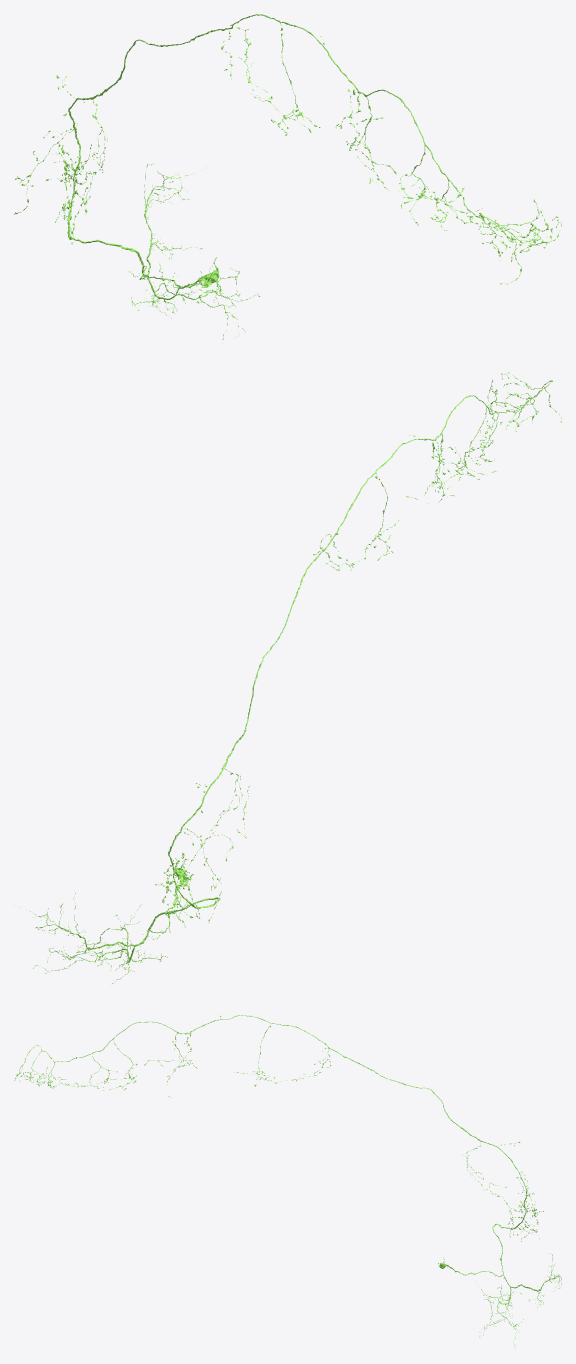
The model's file is VFB_jrmc3kjh.glb.
The picture shows the model from 3 angles, top to bottom: view 1: azimuth 30°, elevation 25°; view 2: azimuth 150°, elevation 25°; view 3: azimuth 270°, elevation 25°; orthographic projection. The views are drawn at different scales.
Parts seen in each view (by area): view 1: VFB_jrmc3kjh; view 2: VFB_jrmc3kjh; view 3: VFB_jrmc3kjh.
Part boxes in pixels (<box>): VFB_jrmc3kjh: <box>14,14,561,339</box>; VFB_jrmc3kjh: <box>14,372,561,985</box>; VFB_jrmc3kjh: <box>14,1015,561,1347</box>.
Size of the model in its own units: 0.1549 by 0.3265 by 0.5617.
